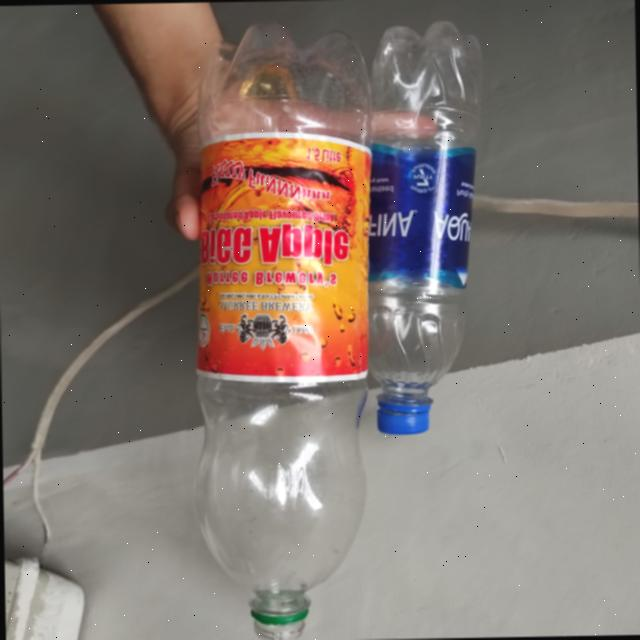bottle: (194, 23, 377, 640), (365, 33, 482, 439)
cap: (377, 386, 436, 435)
label: (199, 131, 371, 380), (371, 143, 477, 279)
